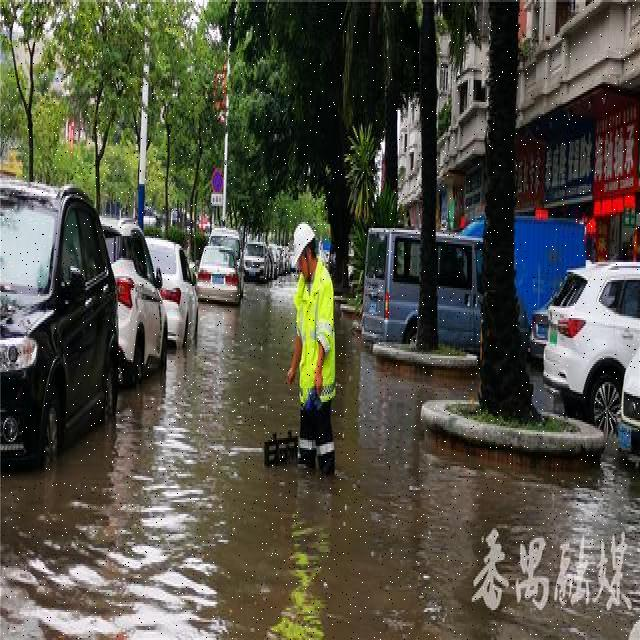rescuer: (282, 216, 353, 489)
